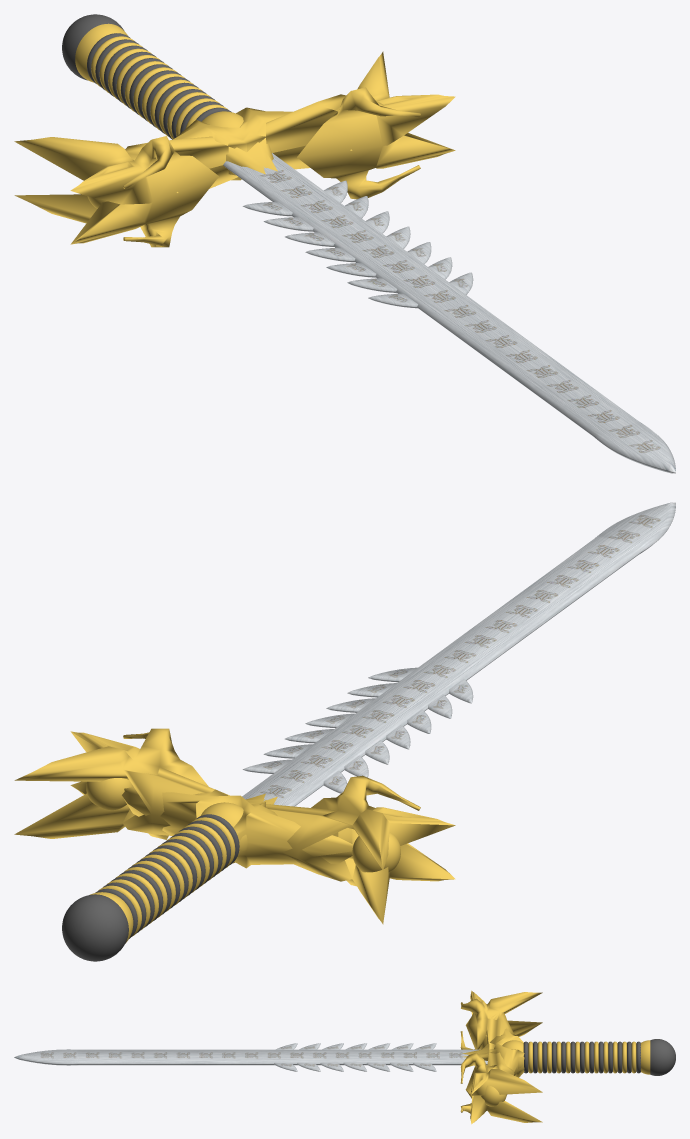
The model's file is sword_op.obj.
The picture shows the model from 3 angles, top to bottom: view 1: azimuth 30°, elevation 25°; view 2: azimuth 150°, elevation 25°; view 3: azimuth 270°, elevation 25°; orthographic projection. The views are drawn at different scales.
Visible parts, largest first — view 1: Object__0; view 2: Object__0; view 3: Object__0.
Part boxes in pixels (x1,y1,x2,y2): Object__0: (14, 14, 675, 473); Object__0: (14, 502, 675, 961); Object__0: (14, 990, 675, 1124).
Size of the model in its own units: 0.3835 by 0.1023 by 1.03.
Materials: 3 (1 with a texture image).
